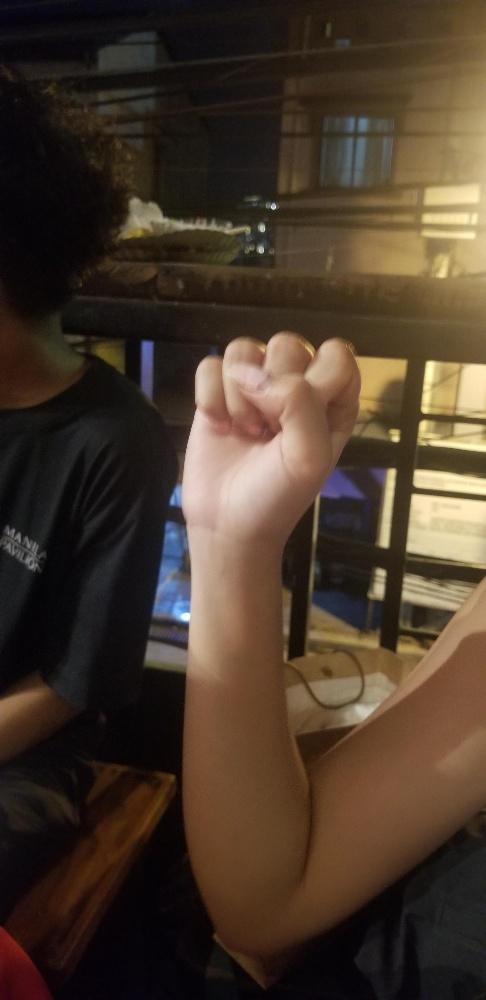s: (179, 327, 361, 541)
